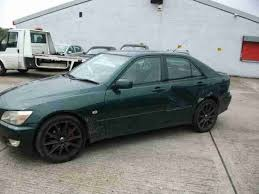Dent: (160, 85, 204, 114)
Scratch: (89, 118, 109, 141)
